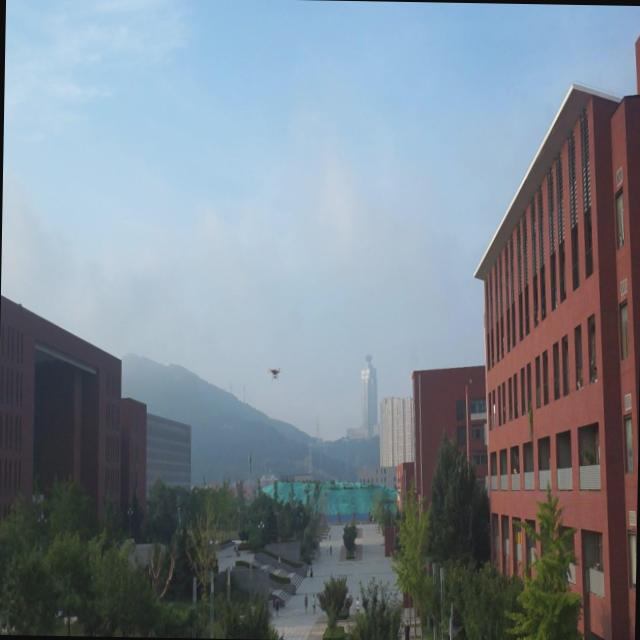drone: (266, 362, 284, 383)
